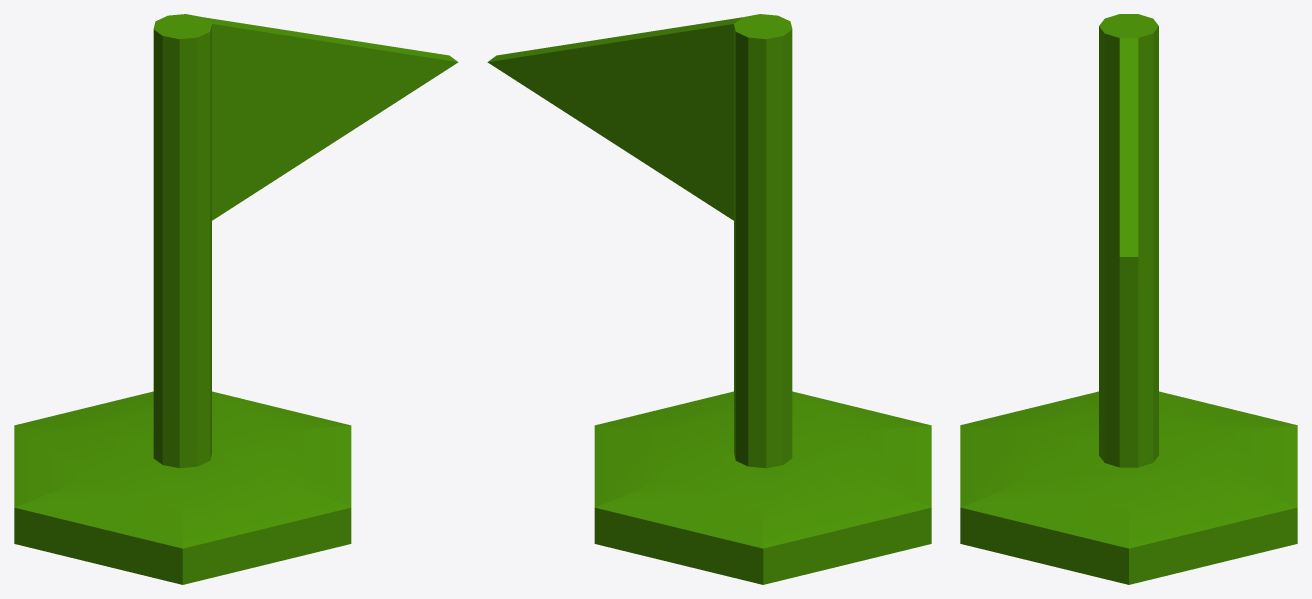
File: Boardgame_Token_Flag_Green_01.fbx
The picture shows the model from 3 angles, left to right: view 1: azimuth 30°, elevation 25°; view 2: azimuth 150°, elevation 25°; view 3: azimuth 270°, elevation 25°; orthographic projection.
Visible parts, largest first — view 1: Boardgame_Token_Flag_Green_01; view 2: Boardgame_Token_Flag_Green_01; view 3: Boardgame_Token_Flag_Green_01.
Boxes of the visible parts, bbox=[...] form: Boardgame_Token_Flag_Green_01: bbox=[14, 14, 458, 584]; Boardgame_Token_Flag_Green_01: bbox=[487, 14, 931, 584]; Boardgame_Token_Flag_Green_01: bbox=[960, 14, 1297, 584].
Size of the model in its own units: 1249 by 1293 by 829.
